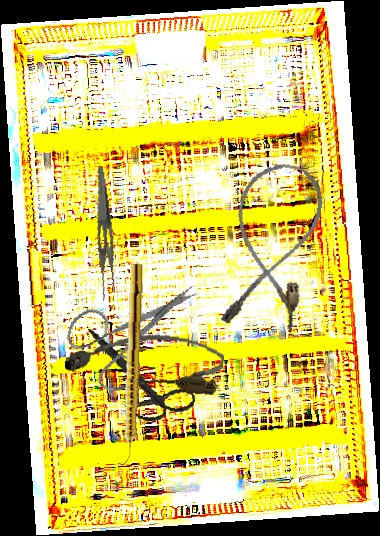Cannula: (214, 155, 330, 338), (63, 324, 226, 397)
Dressing Forceps: (82, 166, 123, 301)
Handpiece: (119, 262, 144, 467)
Iris Scissors: (55, 251, 200, 408), (73, 328, 205, 429)
